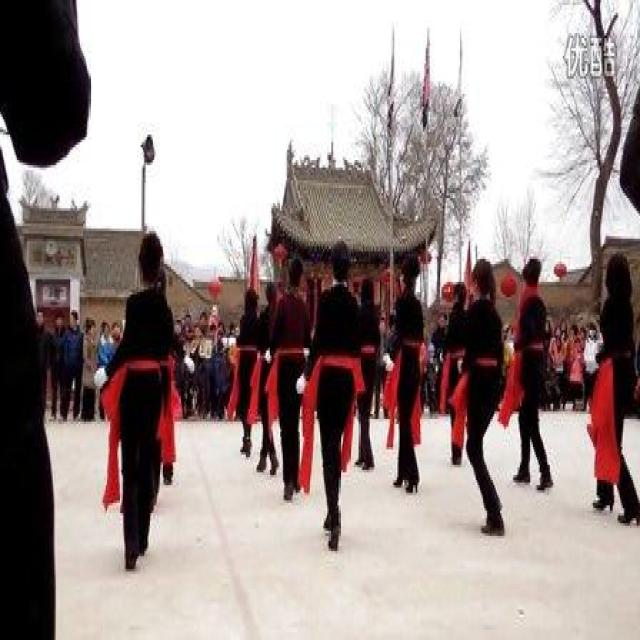non-fight: (92, 221, 181, 577), (294, 240, 372, 561), (431, 258, 507, 539), (584, 246, 640, 526), (262, 250, 316, 504), (511, 254, 559, 496), (380, 253, 426, 497)
